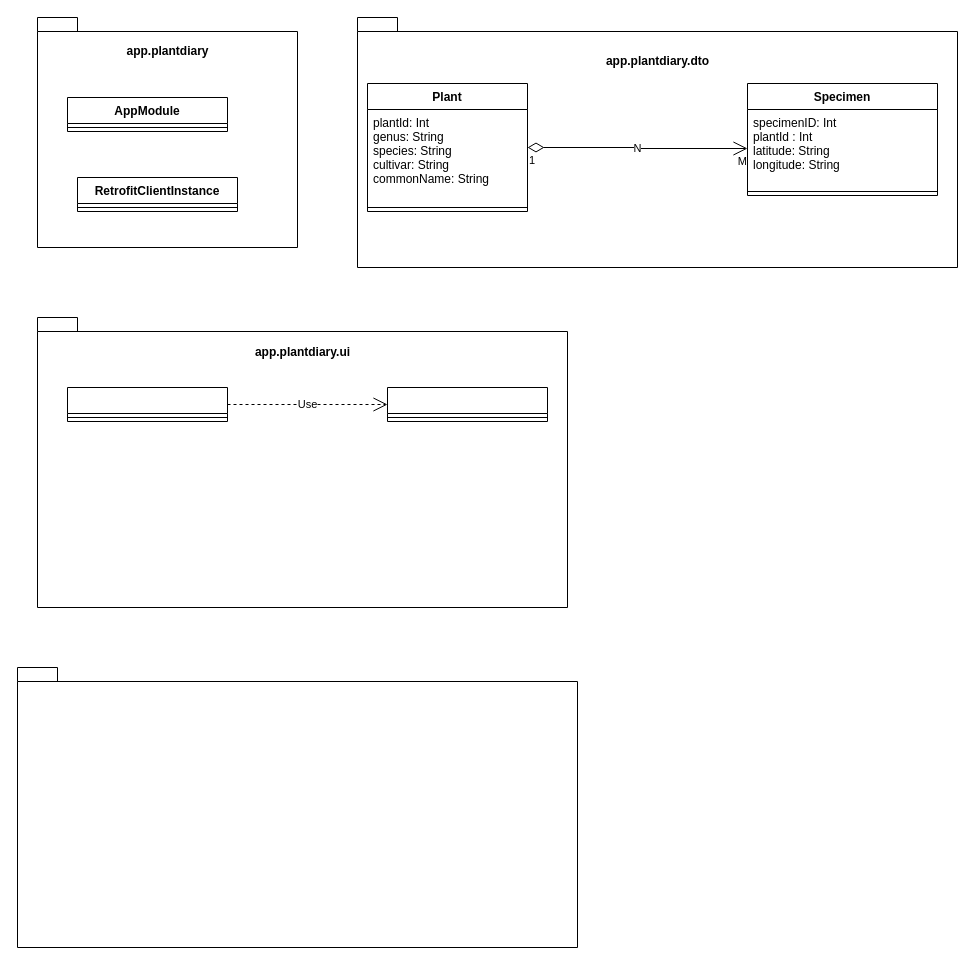
Image size: 975x965. Some labels were removed from this diagram. The shapes that lost their labels are listed below. From the top down, each one's centre as x and y in pixels, then its label:
At point (147, 404): "MainActivity".
At point (467, 404): "ViewModel".
At point (297, 807): "package".
